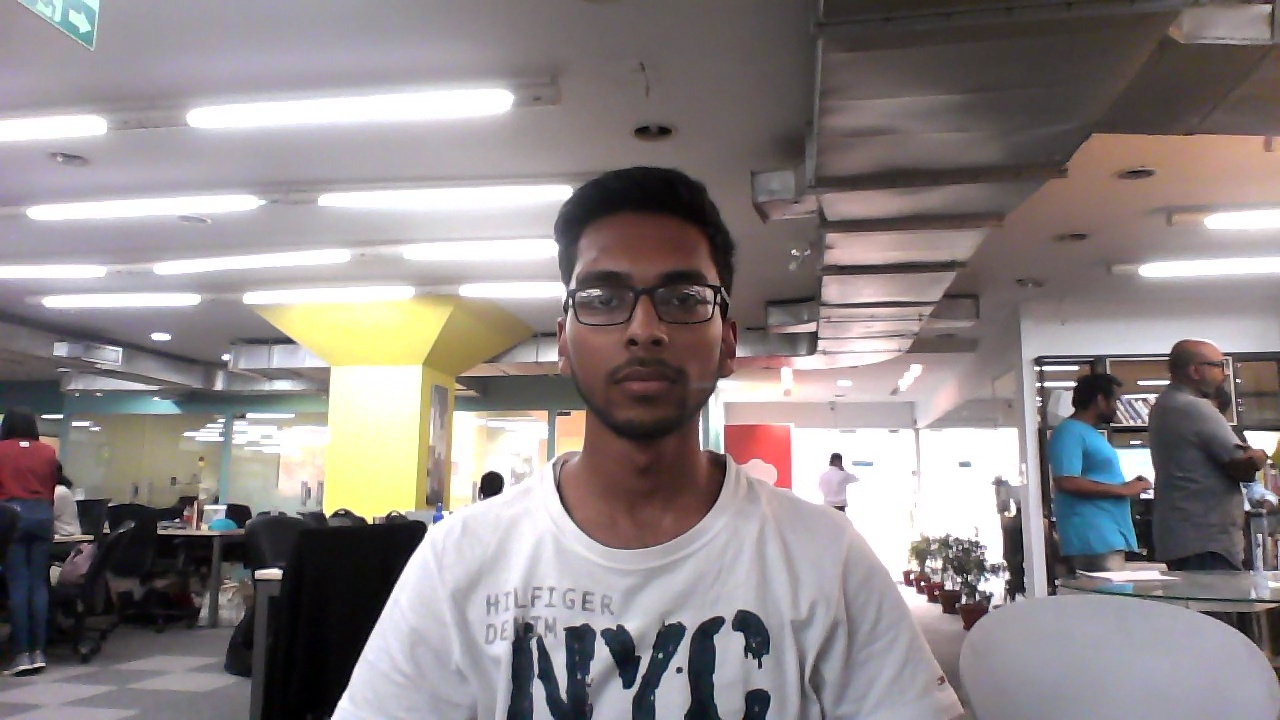open: (548, 160, 746, 462)
